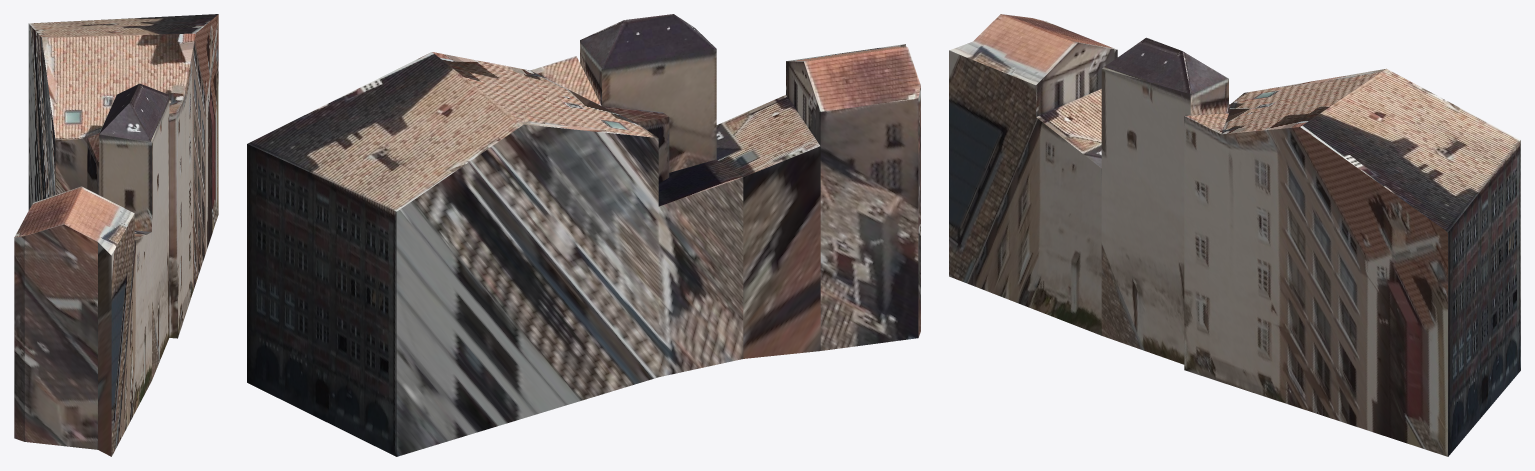
The picture shows the model from 3 angles, left to right: view 1: azimuth 30°, elevation 25°; view 2: azimuth 150°, elevation 25°; view 3: azimuth 270°, elevation 25°; orthographic projection. The views are drawn at different scales.
Parts seen in each view (by area): view 1: Z_UP; view 2: Z_UP; view 3: Z_UP.
Boxes of the visible parts, box(x1,y1,x2,y2) form: Z_UP: box(14, 14, 218, 456); Z_UP: box(247, 14, 920, 456); Z_UP: box(949, 14, 1520, 456).
Bounding box in the file's own units: 35.35 × 23.37 × 40.67.
Materials: 2 (1 with a texture image).
